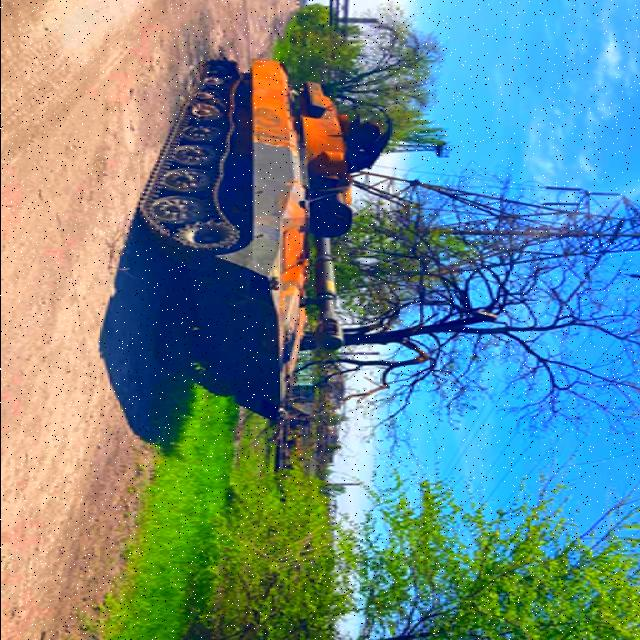ART: (136, 56, 394, 422)
